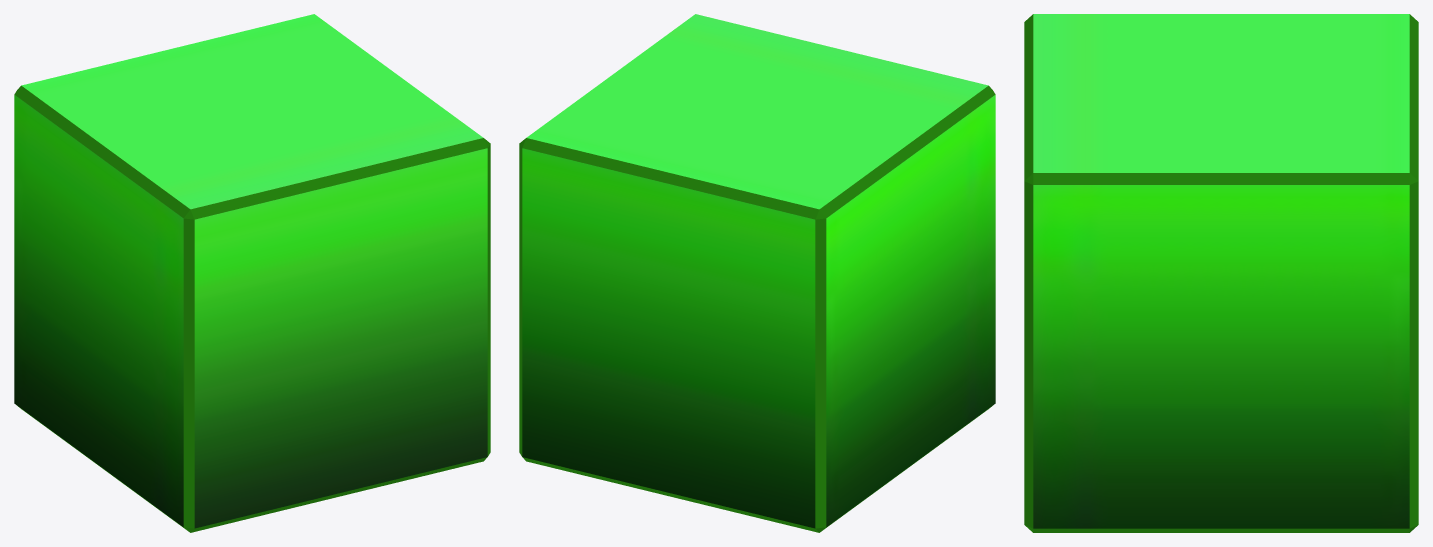
Rendered from a0a02433-dce8-4400-ab0e-042334c046f4.glb.
3 renders of one model, left to right at view 1: azimuth 30°, elevation 25°; view 2: azimuth 150°, elevation 25°; view 3: azimuth 270°, elevation 25°, orthographic. The views are drawn at different scales.
Parts seen in each view (by area): view 1: CyberPunkCubeShapeB.006; view 2: CyberPunkCubeShapeB.006; view 3: CyberPunkCubeShapeB.006.
Part boxes in pixels (<box>): CyberPunkCubeShapeB.006: <box>14,14,490,532</box>; CyberPunkCubeShapeB.006: <box>519,14,995,532</box>; CyberPunkCubeShapeB.006: <box>1024,14,1418,532</box>.
Size of what is drawn, in the model's own units: 0.7415 by 0.7467 by 0.7415.
2 materials, 2 textured.
